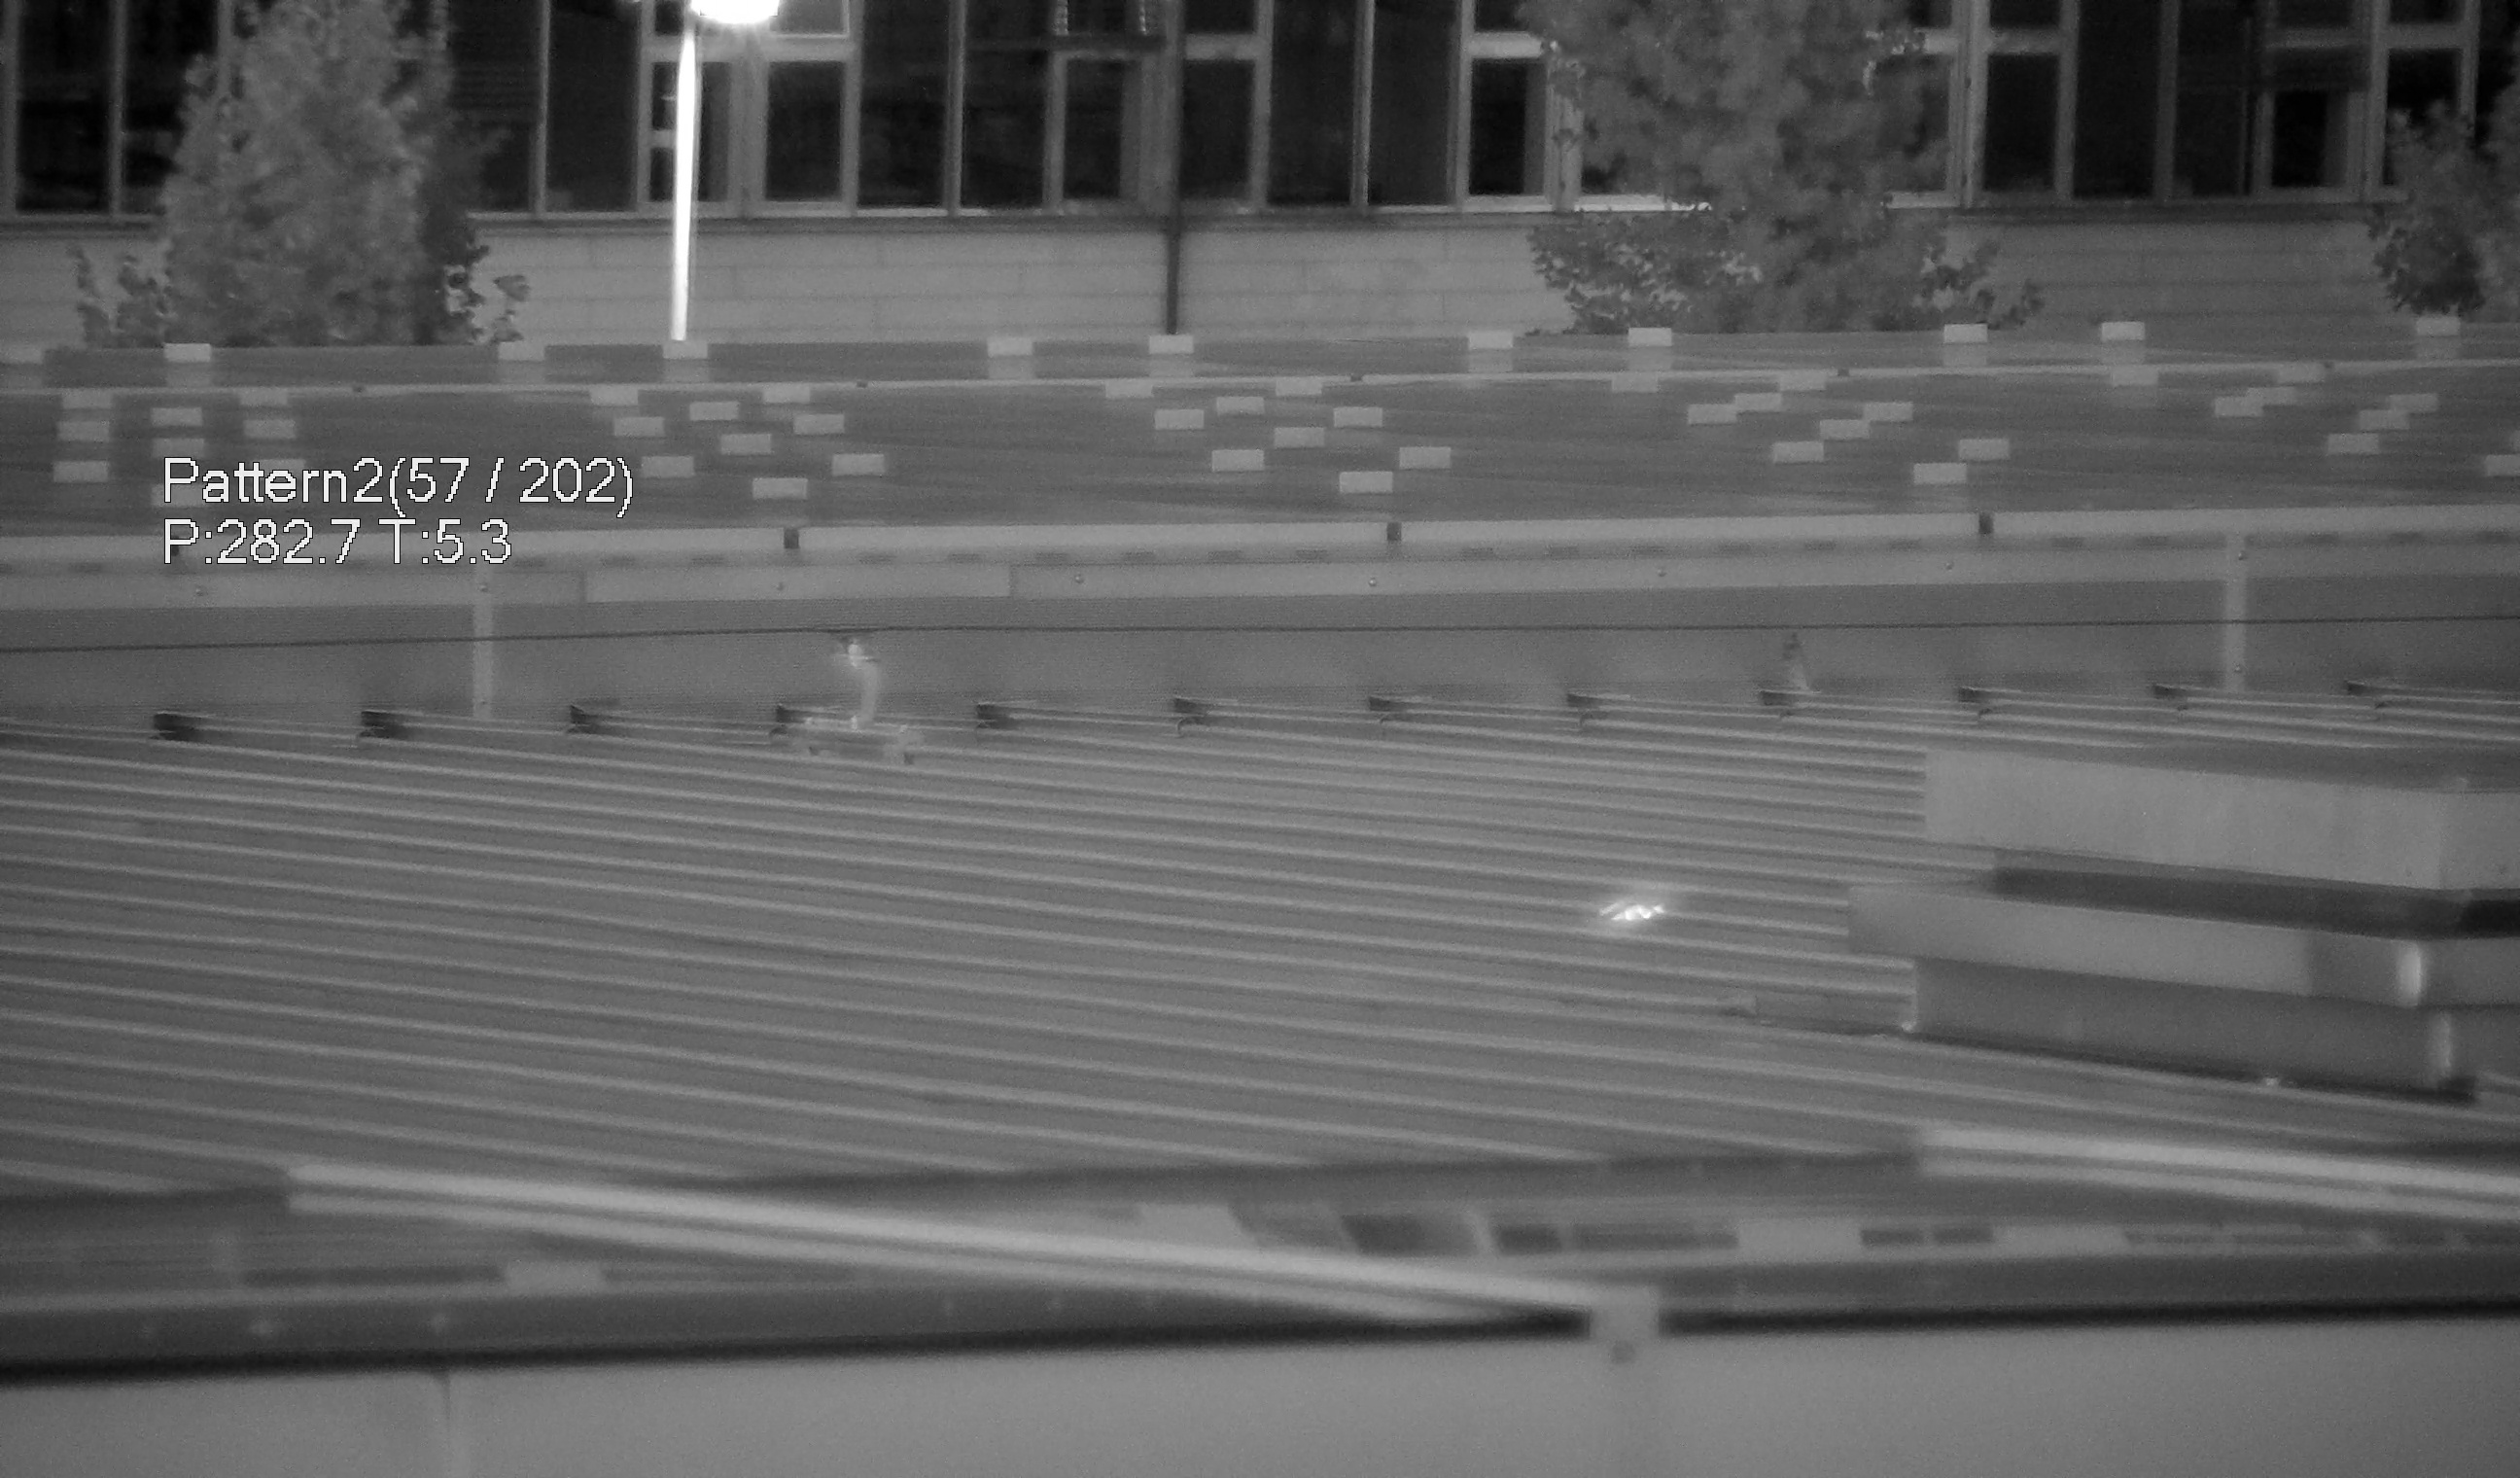Other: (1762, 621, 1836, 716)
